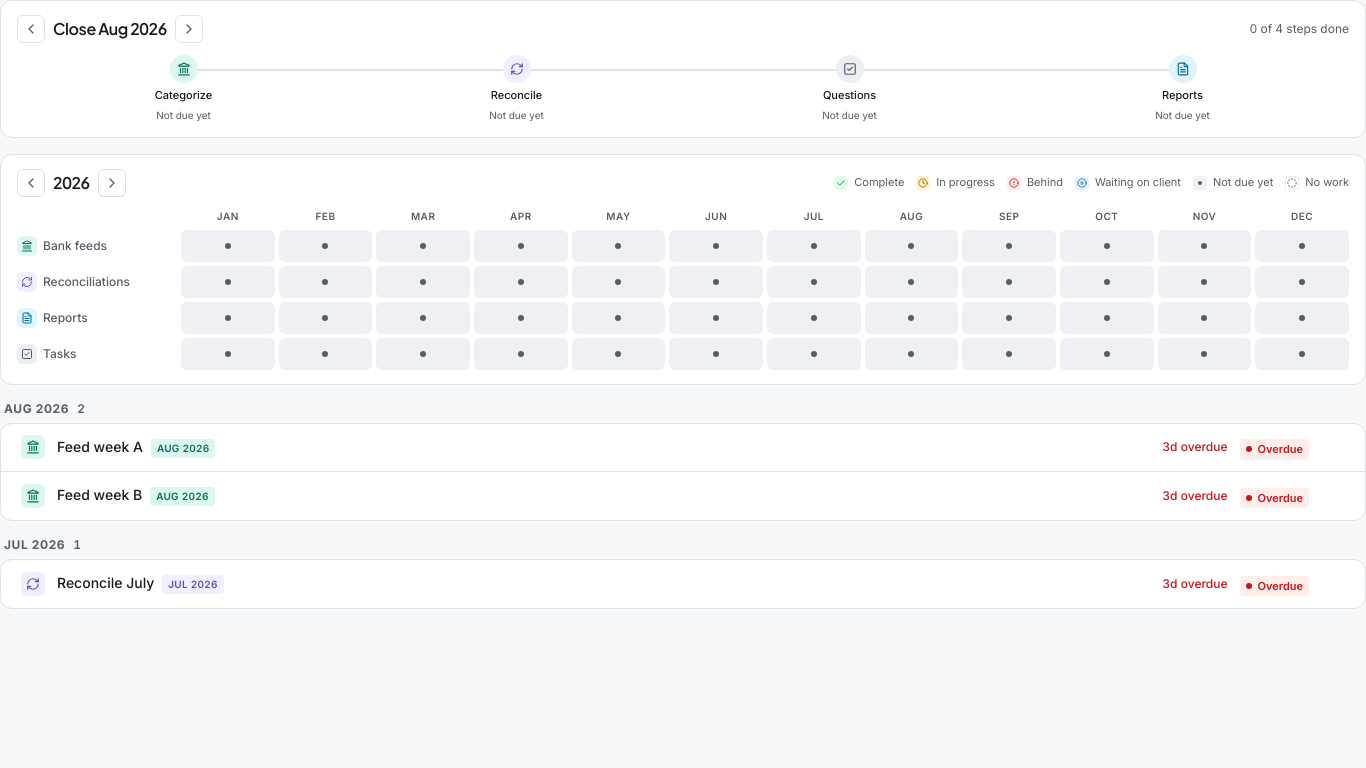
it: ClientWorkTab › filters the work list to the clicked cell and clears back
The image size is (1366, 768).
Click the button named "Bank feeds, Aug 2026" at coordinates (912, 246), box 865,230 -> 958,262
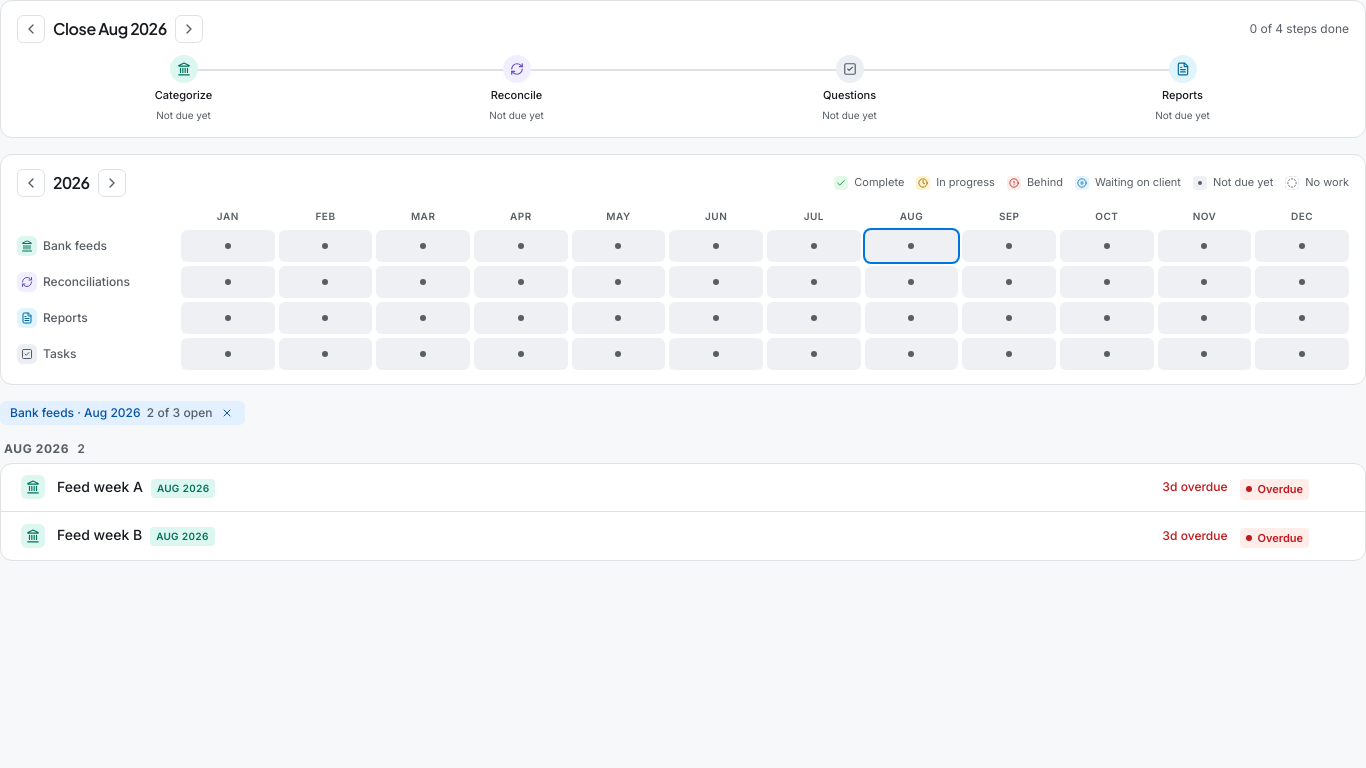
Expected: the element with test id "year-grid-filter" shows "Bank feeds · Aug 2026", 10,404 -> 140,420
Expected: the element with test id "year-grid-filter" shows "2 of 3 open", 0,400 -> 244,424
Expected: the number of elements with test id "client-work-row" is 2, 1,464 -> 1365,512; 21,524 -> 1309,548
Click the button named "Clear period filter" at coordinates (226, 412), box 218,404 -> 234,420
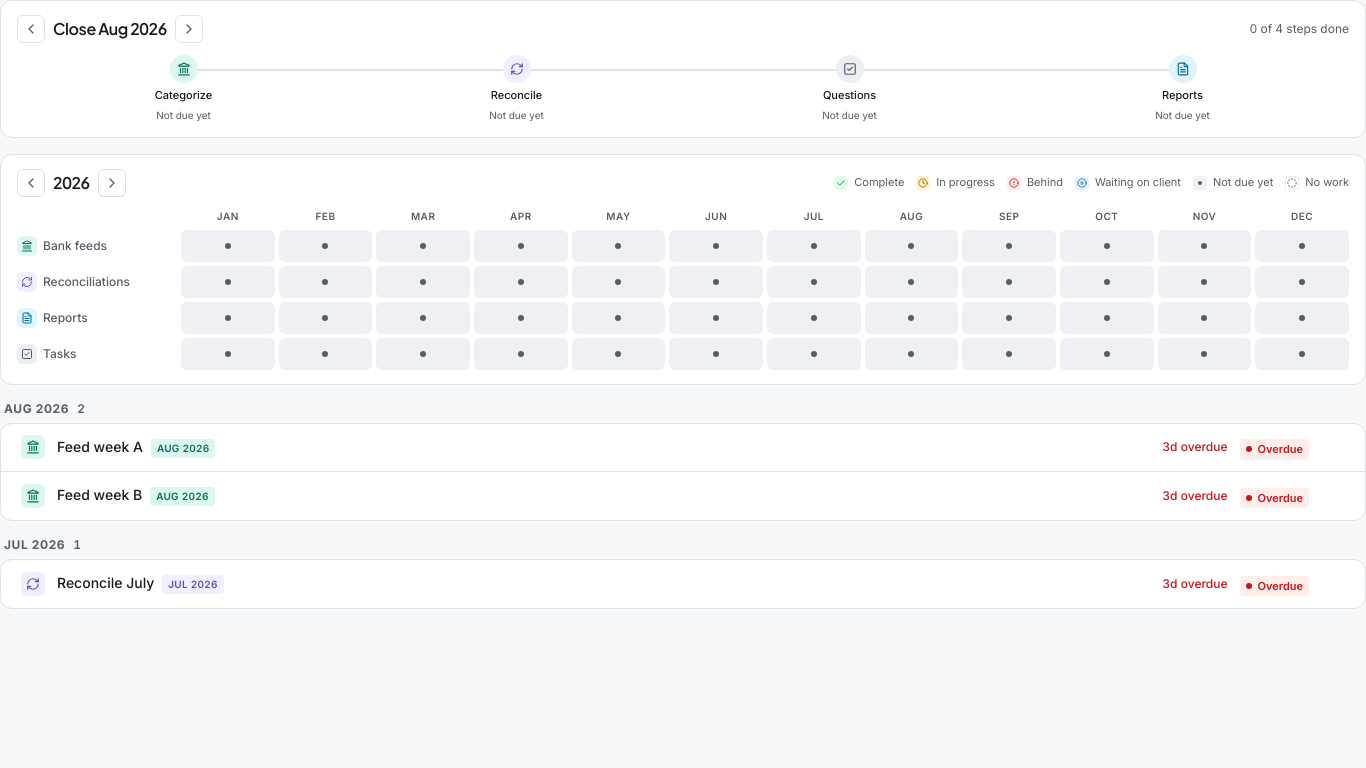
Expected: the number of elements with test id "client-work-row" is 3, 1,424 -> 1365,472; 21,484 -> 1309,508; 21,572 -> 1309,596
Expected: the element with test id "year-grid-filter" is gone
